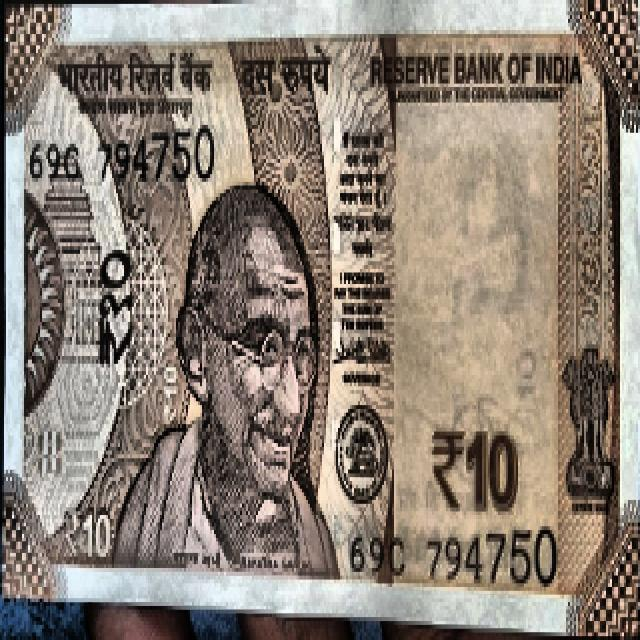-10-: (3, 9, 640, 595)
